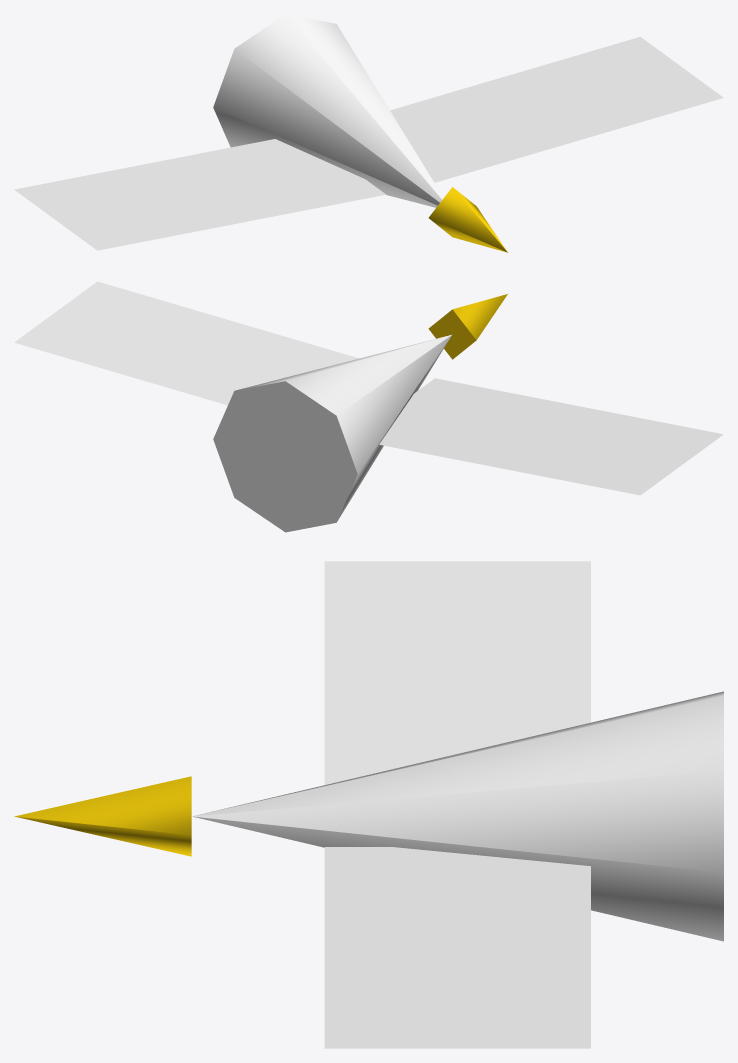
The model's file is bird.glb.
3 renders of one model, top to bottom at view 1: azimuth 30°, elevation 25°; view 2: azimuth 150°, elevation 25°; view 3: azimuth 270°, elevation 25°, orthographic. The views are drawn at different scales.
Parts seen in each view (by area): view 1: WingR, Body, WingL, Beak; view 2: Body, WingL, WingR, Beak; view 3: Body, WingR, WingL, Beak.
Part boxes in pixels (x1,y1,x2,y2): WingR: (390,37,723,182); Body: (213,14,443,207); WingL: (14,139,385,250); Beak: (428,187,507,252); Body: (213,334,451,532); WingL: (379,378,723,495); WingR: (14,281,359,405); Beak: (428,294,507,359); Body: (192,691,723,941); WingR: (324,847,590,1048); WingL: (324,561,590,784); Beak: (14,776,191,856).
Size of the model in its own units: 2.6 by 0.6 by 1.6.
